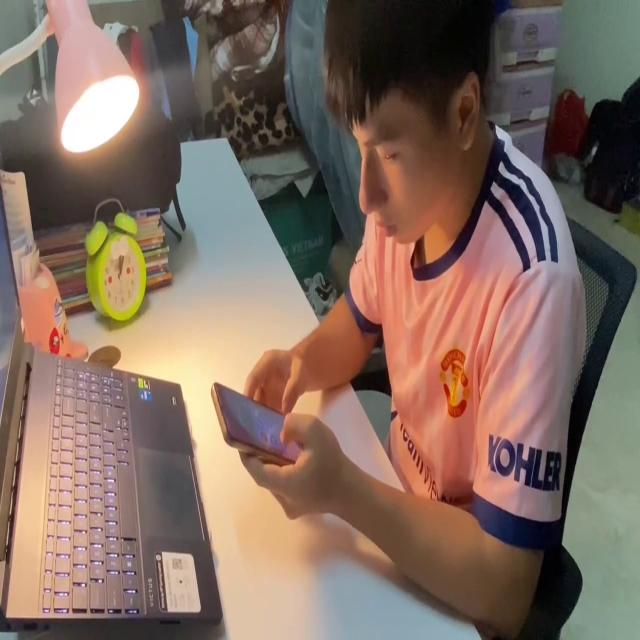laptop: (0, 166, 225, 635)
phone: (207, 367, 308, 474)
student: (236, 0, 584, 640)
